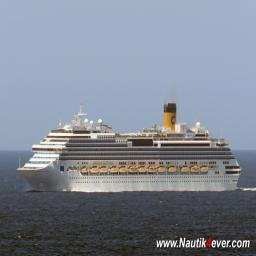cruises: (17, 97, 244, 197)
